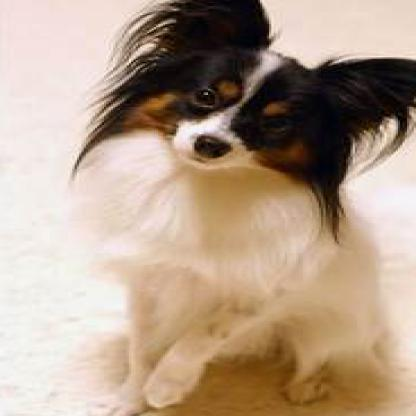dog: (58, 0, 416, 415)
